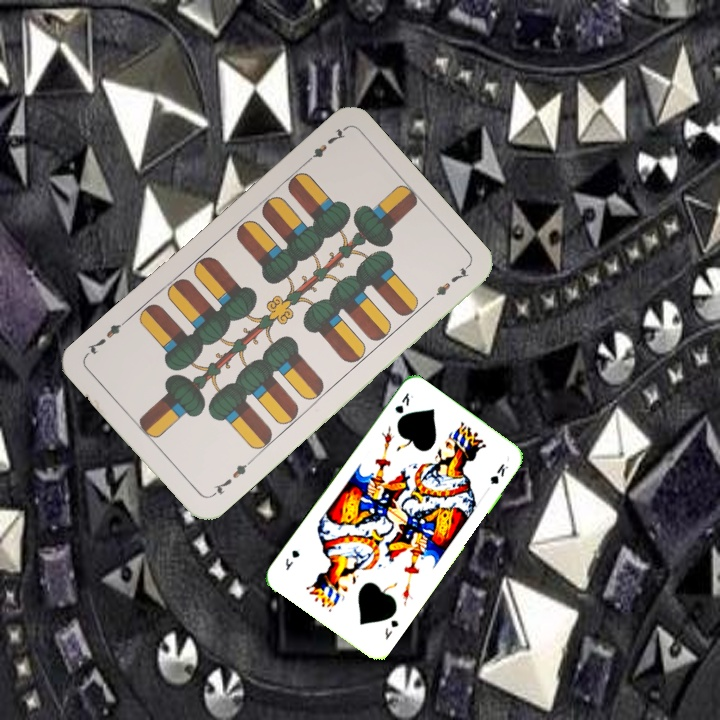E7: (299, 123, 349, 168), (206, 456, 255, 500)
GK: (391, 388, 416, 416), (381, 616, 401, 642)
